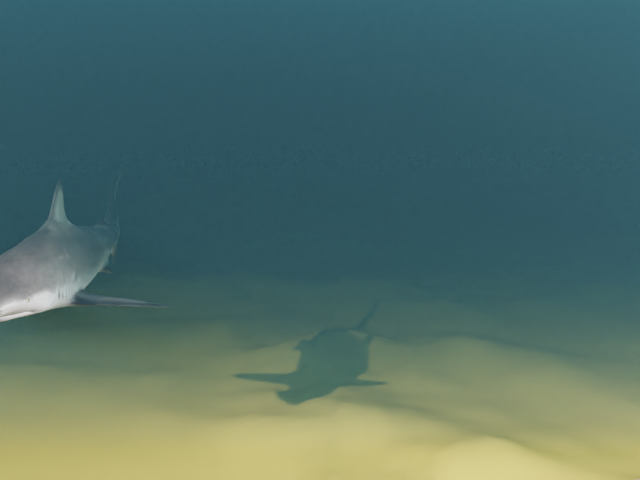Carribean Shark.001: (0, 164, 170, 322)
